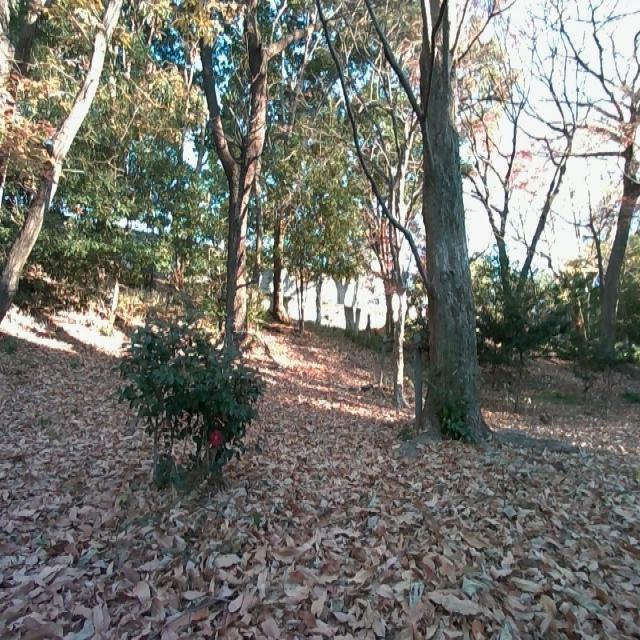bush: (120, 282, 258, 462), (480, 262, 639, 372)
tree: (333, 0, 516, 448), (195, 0, 324, 357), (483, 10, 606, 344), (0, 0, 122, 332), (369, 0, 436, 405), (585, 19, 640, 337), (262, 189, 312, 321)
